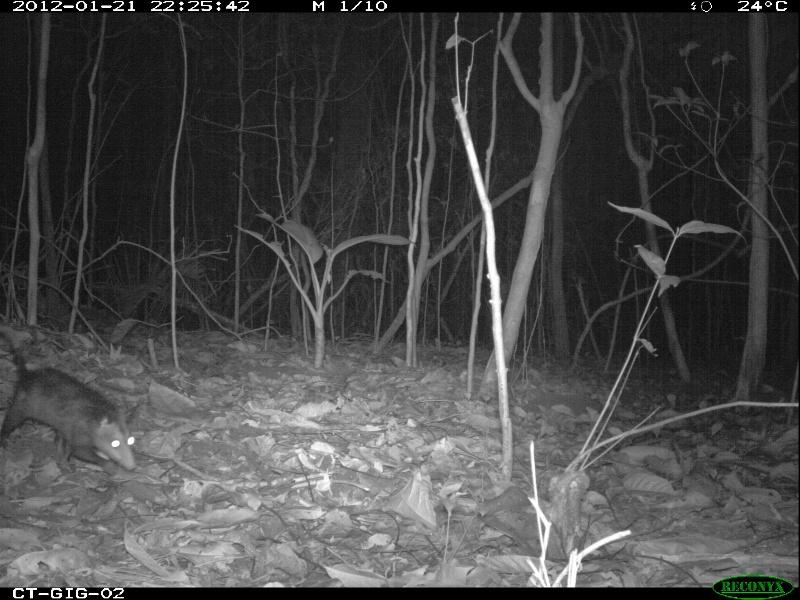opossum: (1, 327, 140, 482)
